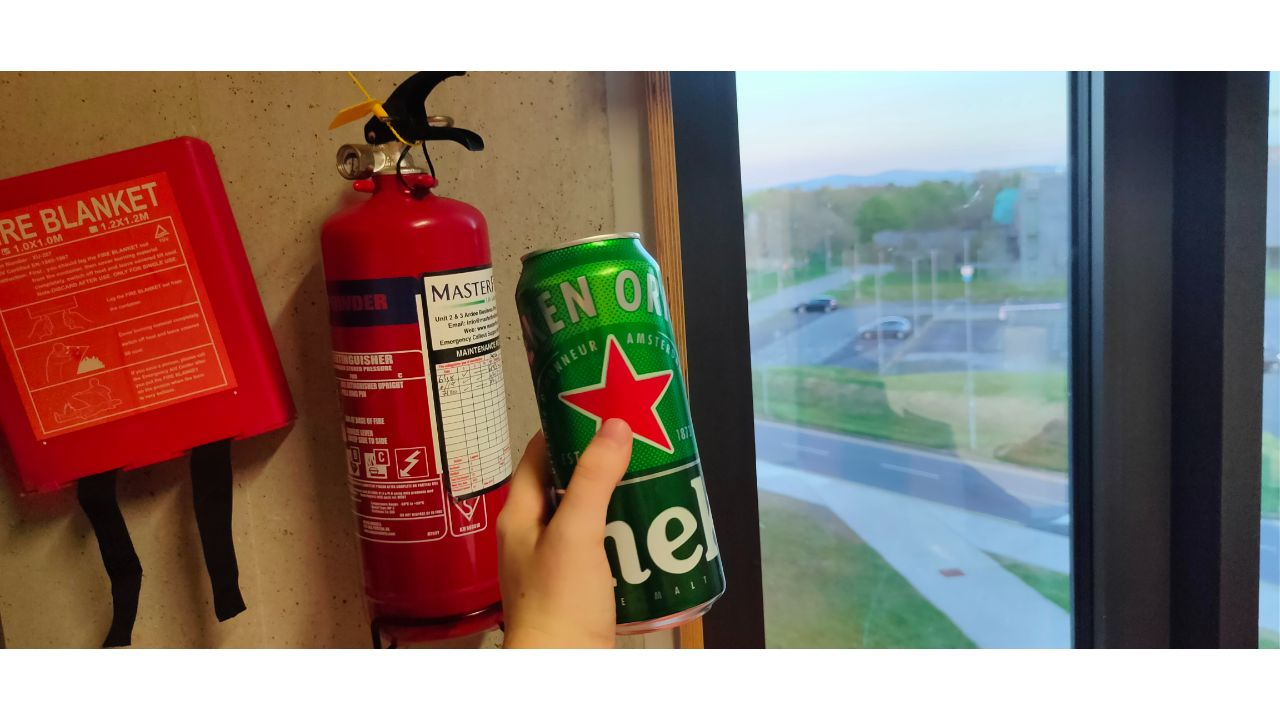Can: (516, 231, 724, 639)
